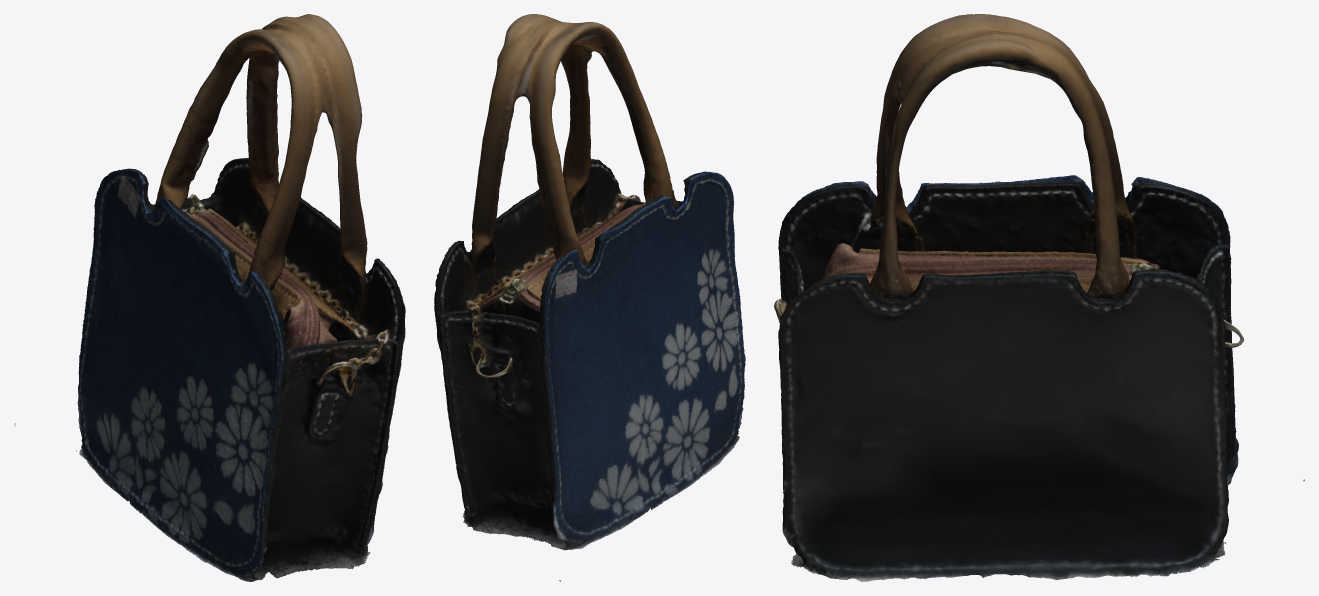
File: bag_mod_sim.fbx
The picture shows the model from 3 angles, left to right: view 1: azimuth 30°, elevation 25°; view 2: azimuth 150°, elevation 25°; view 3: azimuth 270°, elevation 25°; orthographic projection. The views are drawn at different scales.
Visible parts, largest first — view 1: __copy_LOD0; view 2: __copy_LOD0; view 3: __copy_LOD0.
Part boxes in pixels (<box>): __copy_LOD0: <box>14,14,405,581</box>; __copy_LOD0: <box>434,14,745,581</box>; __copy_LOD0: <box>774,14,1304,581</box>.
Bounding box in the file's own units: 2038 × 5098 × 4423.
